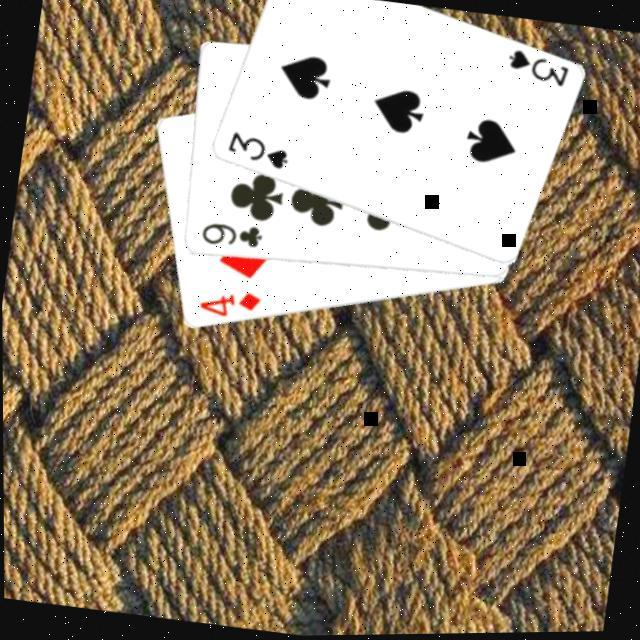3S: (219, 126, 292, 174), (499, 43, 572, 91)
4D: (192, 281, 262, 324)
9C: (194, 214, 264, 254)
